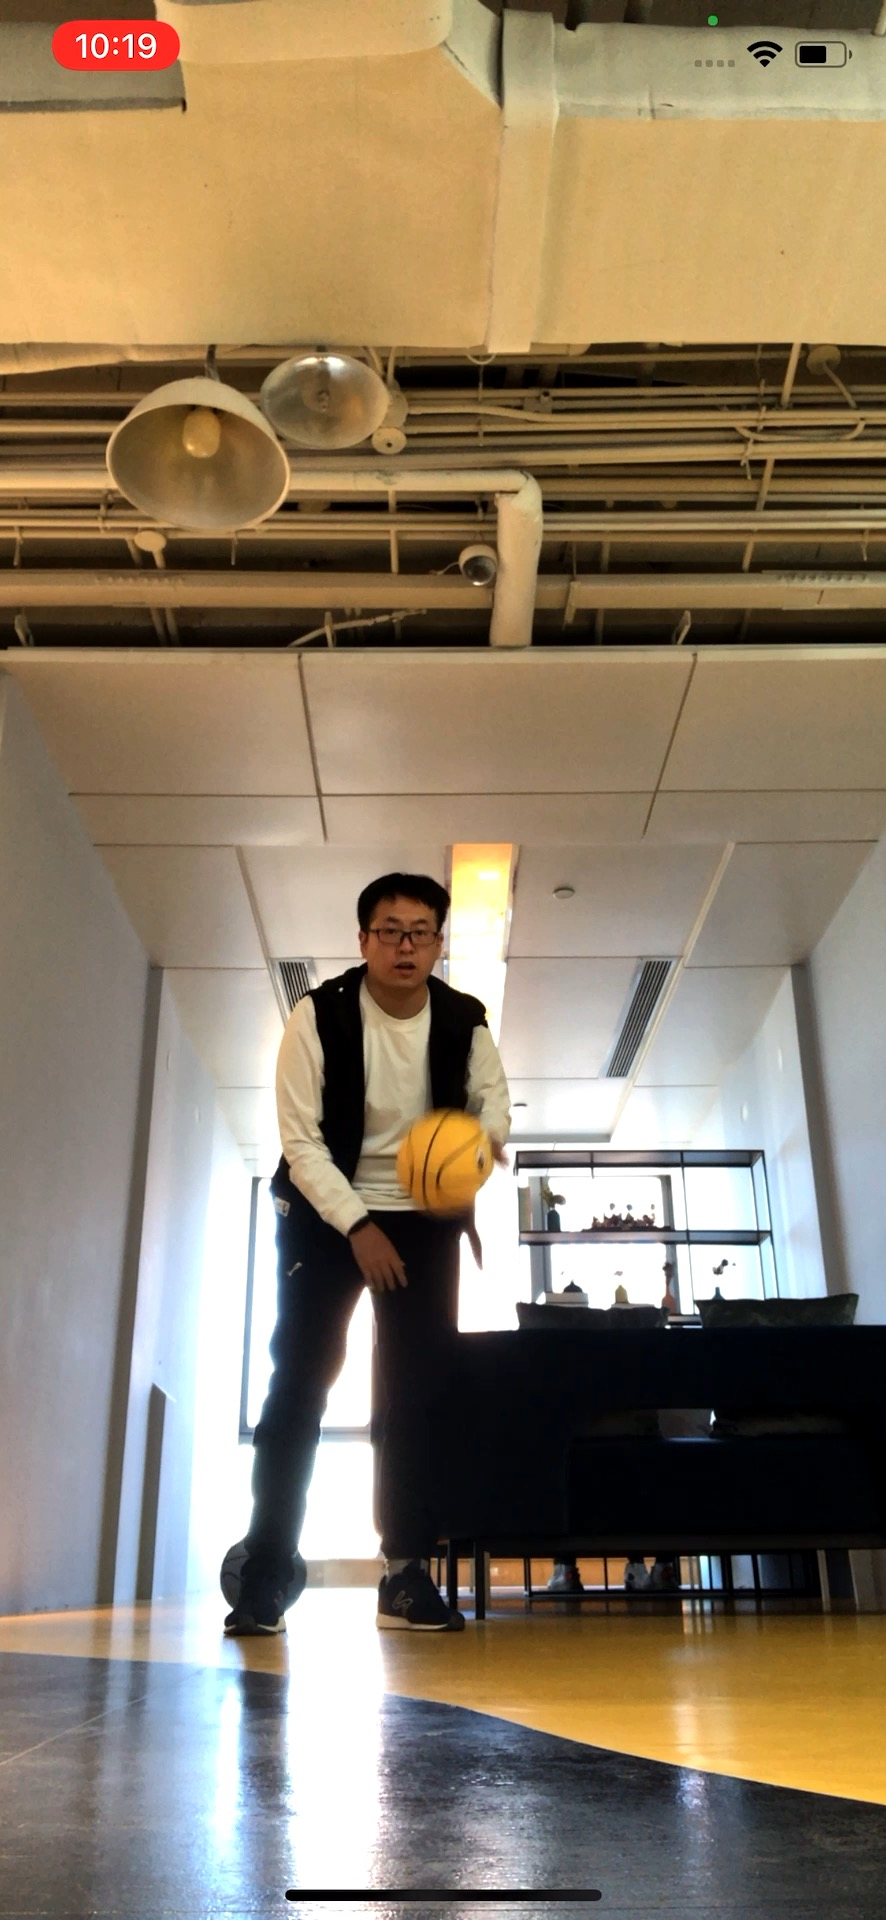ball: (400, 1106, 502, 1216)
